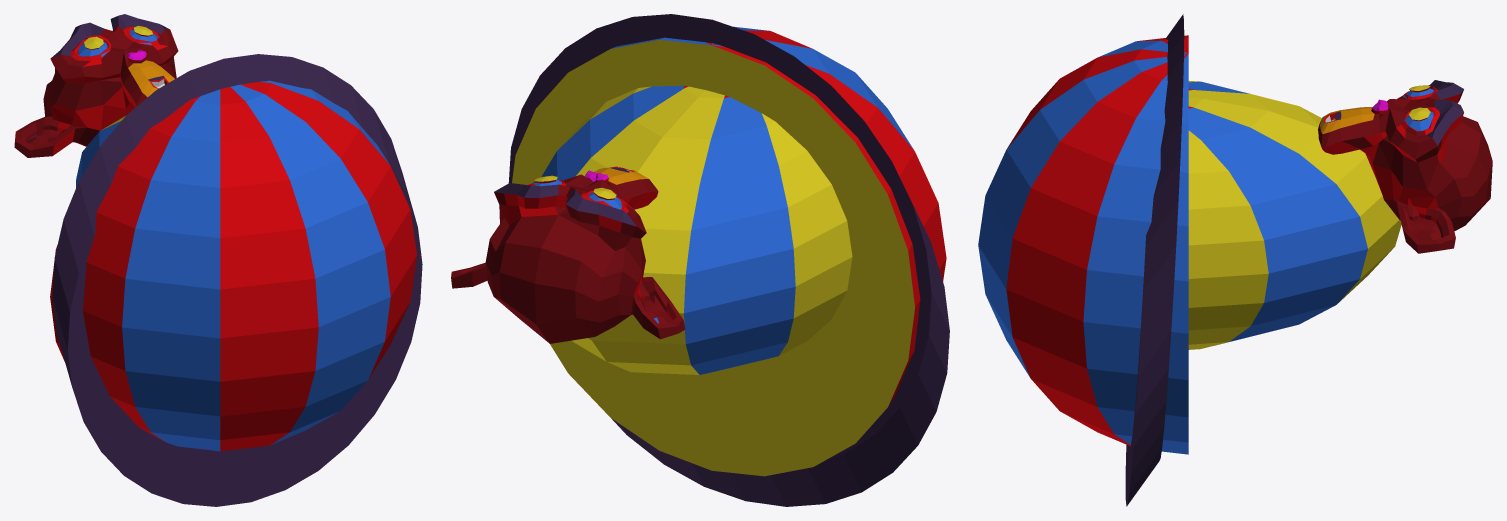
The model's file is bossBody.fbx.
The picture shows the model from 3 angles, left to right: view 1: azimuth 30°, elevation 25°; view 2: azimuth 150°, elevation 25°; view 3: azimuth 270°, elevation 25°; orthographic projection. The views are drawn at different scales.
Visible parts, largest first — view 1: Body; view 2: Body; view 3: Body.
Part boxes in pixels (box(x1,y1,x2,y2)): Body: box(14, 14, 422, 506); Body: box(451, 14, 949, 506); Body: box(978, 14, 1492, 506).
Bounding box in the file's own units: 2.08 × 2.38 × 2.45.
